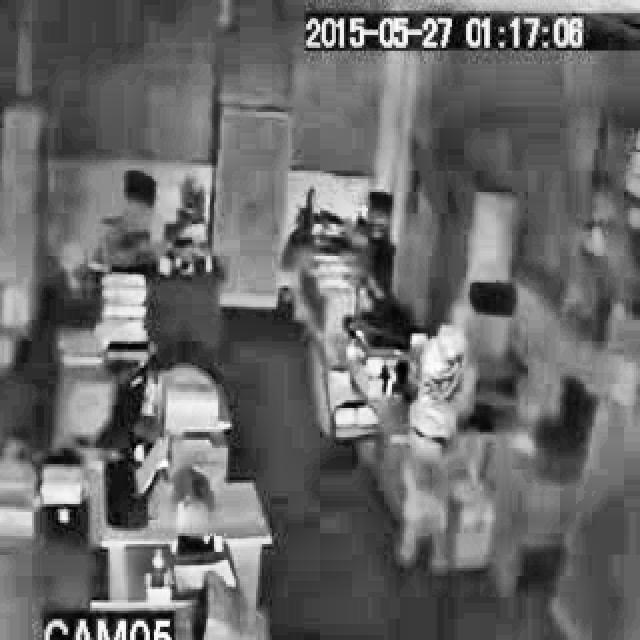burglary: (394, 312, 506, 576)
